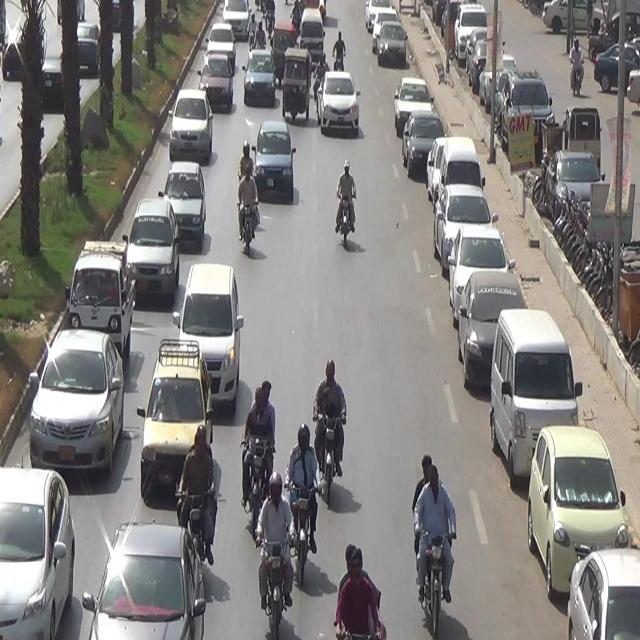car: (85, 511, 204, 640), (25, 326, 122, 481), (0, 451, 74, 640), (137, 344, 212, 481), (175, 265, 245, 404), (244, 114, 296, 203), (164, 84, 215, 162), (314, 68, 364, 146), (124, 214, 173, 292), (162, 161, 207, 245), (196, 40, 236, 114), (244, 50, 276, 116)
motorbike: (404, 449, 456, 616), (171, 426, 230, 564), (251, 465, 296, 636), (310, 343, 349, 498), (287, 404, 323, 562), (241, 390, 282, 512), (234, 163, 265, 260), (330, 168, 361, 260), (233, 142, 255, 191), (332, 30, 345, 71)
truck: (57, 229, 140, 366)
